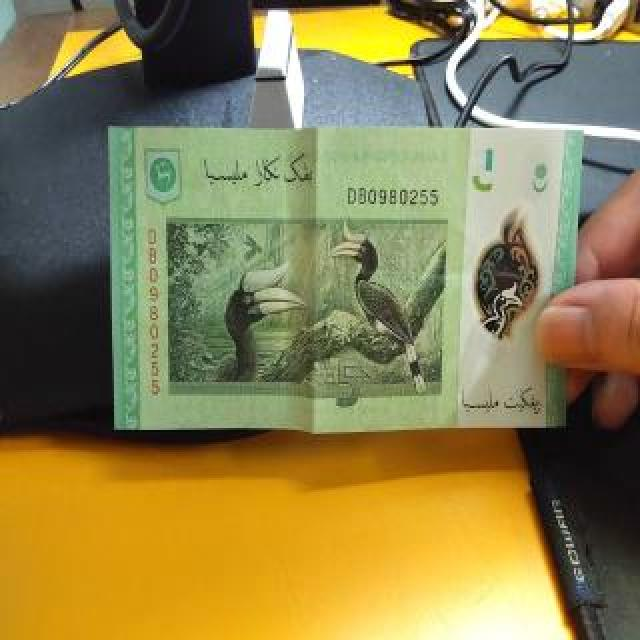5 Ringgit: (104, 128, 590, 435)
